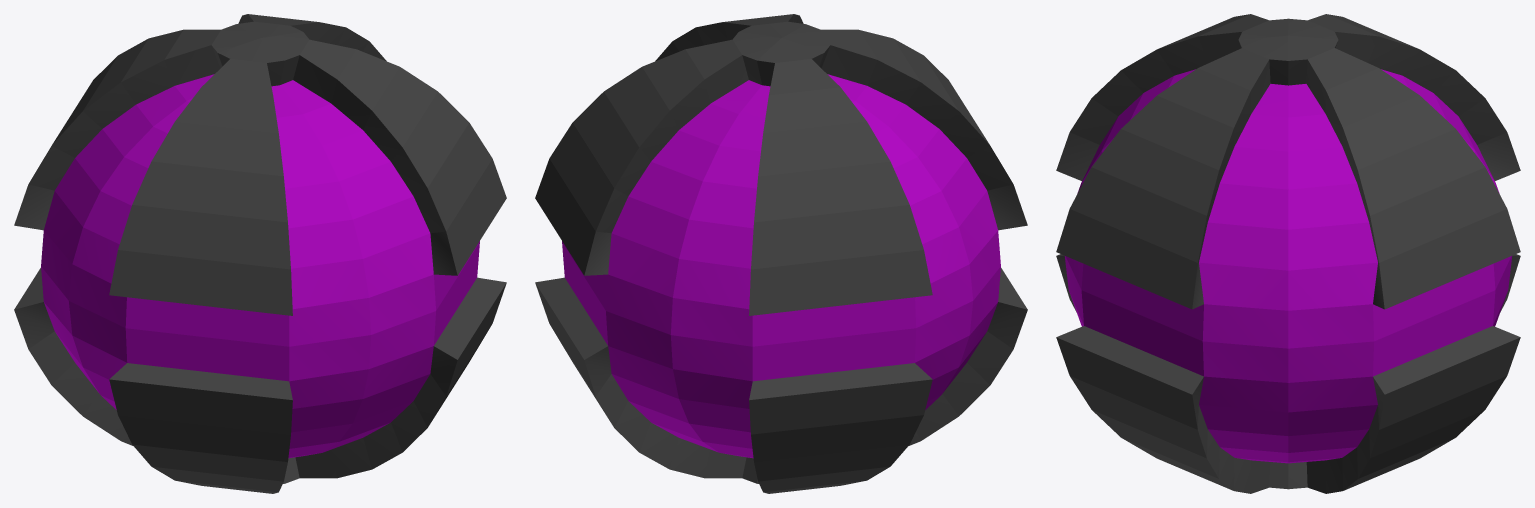
Rendered from Cannonball_Boss.fbx.
3 views of the same model, side by side, from view 1: azimuth 30°, elevation 25°; view 2: azimuth 150°, elevation 25°; view 3: azimuth 270°, elevation 25° (orthographic).
Visible parts, largest first — view 1: Cannon_Ball_Boss; view 2: Cannon_Ball_Boss; view 3: Cannon_Ball_Boss.
Boxes of the visible parts, x1,y1,x2,y2 form: Cannon_Ball_Boss: [14, 14, 506, 493]; Cannon_Ball_Boss: [535, 14, 1027, 493]; Cannon_Ball_Boss: [1056, 14, 1520, 493].
Bounding box in the file's own units: 9 × 9.33 × 9.
